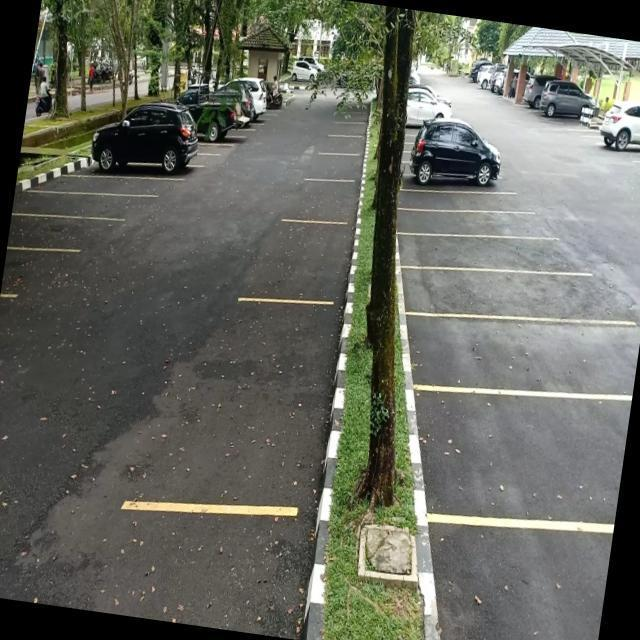Car: (85, 119, 202, 189), (401, 147, 502, 202), (593, 120, 640, 157)
Vacant: (146, 285, 345, 521), (421, 381, 631, 539), (407, 302, 637, 414), (403, 259, 578, 331), (259, 212, 355, 308), (401, 226, 547, 280), (401, 201, 539, 249), (22, 184, 140, 228), (55, 169, 169, 207), (8, 209, 87, 257), (298, 176, 359, 229), (314, 150, 363, 187)
